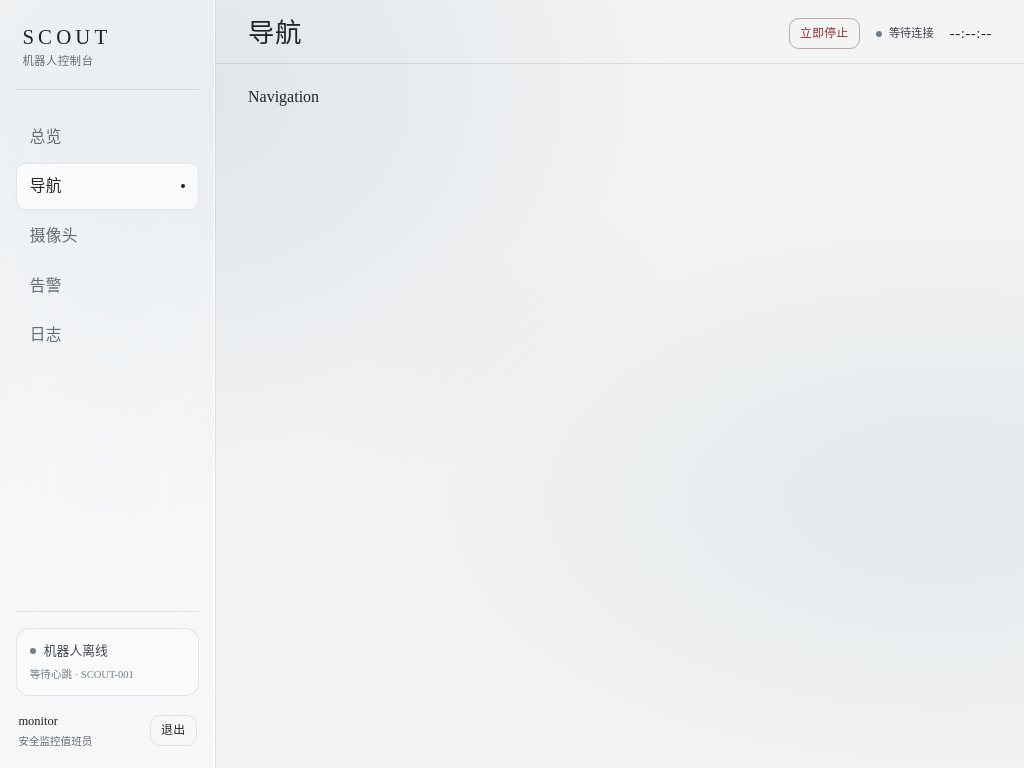
Test: global robot stop › surfaces a failed stop request and does not grant viewer motion permissions
The image size is (1024, 768).
Click the button "立即停止". click: [824, 34]
box: [789,18,860,49]
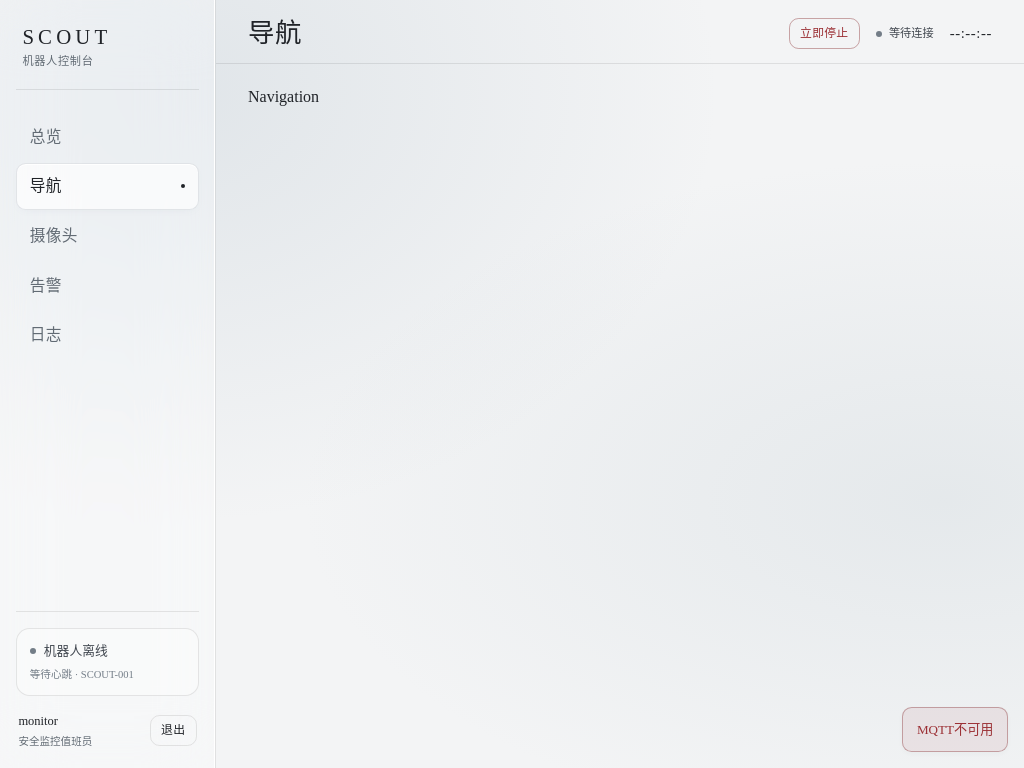
expect the message reads "MQTT不可用": met, box [917,722,993,737]
